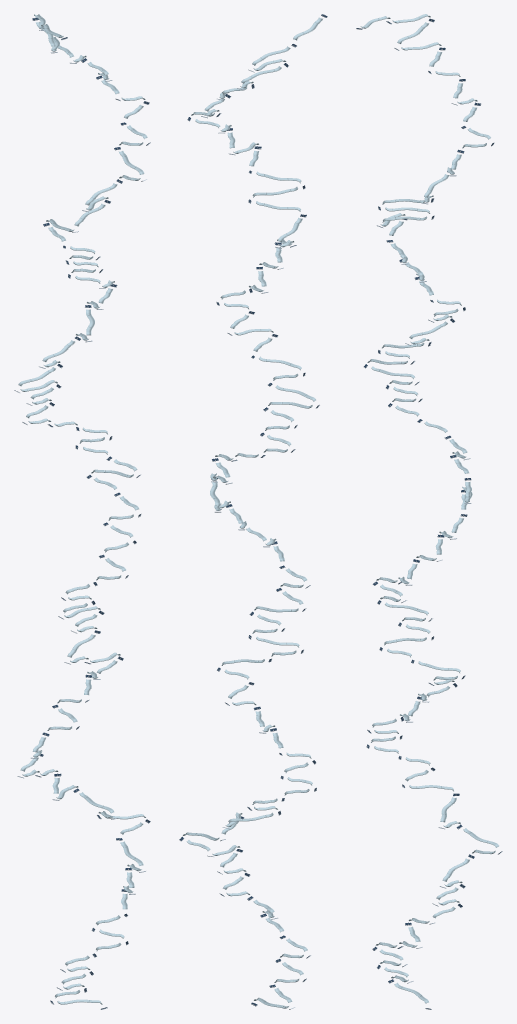
File: C-route-v027-05.glb
The picture shows the model from 3 angles, left to right: view 1: azimuth 30°, elevation 25°; view 2: azimuth 150°, elevation 25°; view 3: azimuth 330°, elevation 25°; orthographic projection.
Bounding box in the file's own units: 0.549 × 3.82 × 0.4151.
Materials: 5 (1 with a texture image).
